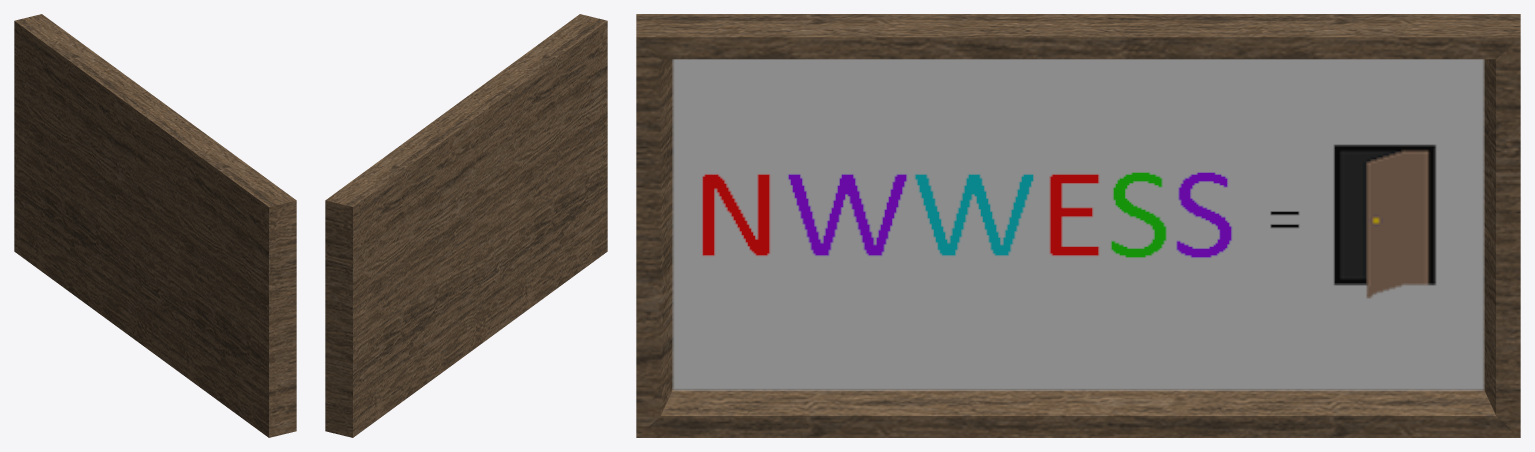
Rendered from Sign Guide 2.fbx.
3 views of the same model, side by side, from view 1: azimuth 30°, elevation 25°; view 2: azimuth 150°, elevation 25°; view 3: azimuth 270°, elevation 25° (orthographic). The views are drawn at different scales.
Visible parts, largest first — view 1: Cube; view 2: Cube; view 3: Cube.
Part boxes in pixels (<box>): Cube: <box>14,14,296,437</box>; Cube: <box>325,14,607,437</box>; Cube: <box>636,14,1520,437</box>.
Bounding box in the file's own units: 25.06 × 200 × 400.
1 material, 1 textured.
